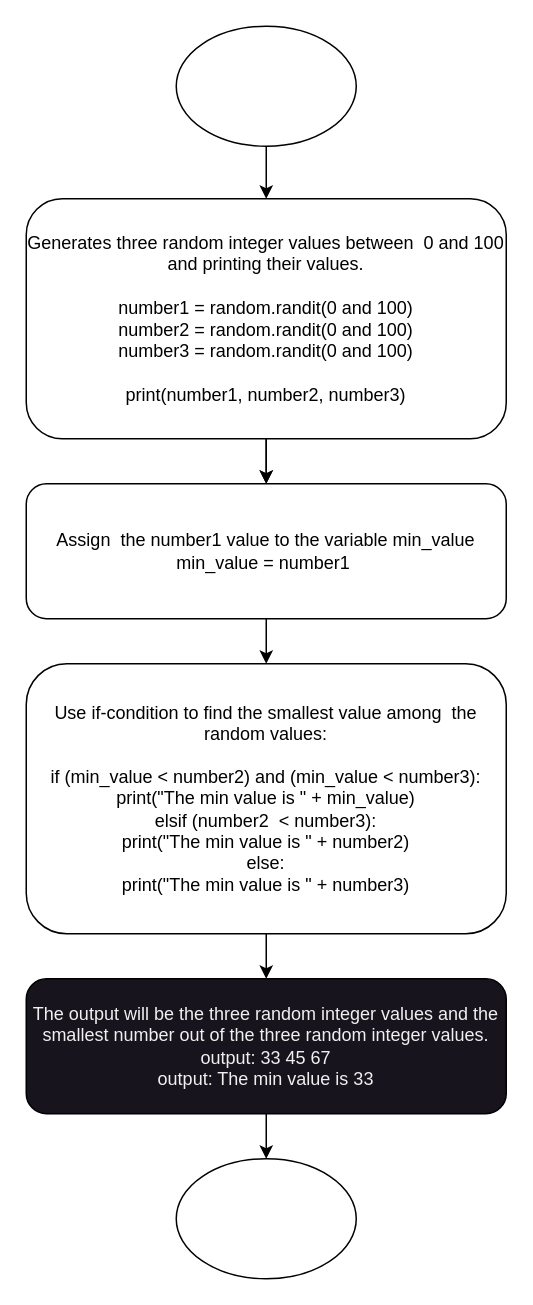
Image size: 533x1305. Some labels were removed from this diagram. The centre of each missing label's shape, as x and y in pixels:
"End" belongs at (265,1218).
"Start" belongs at (265,85).
